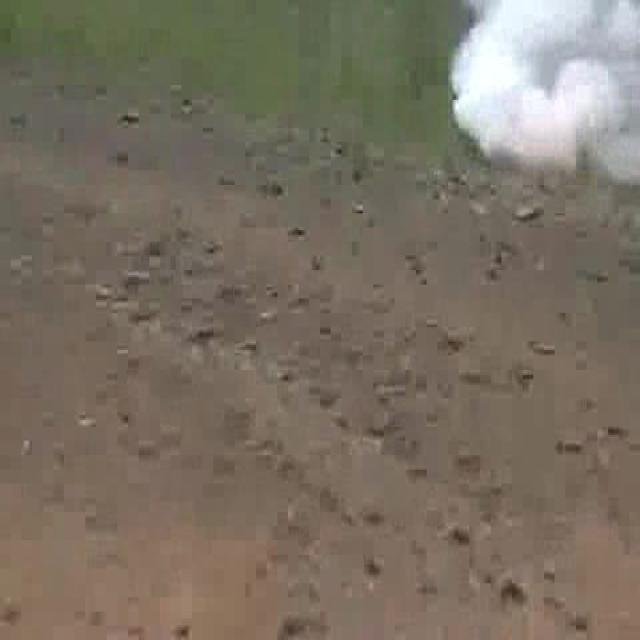Smoke: (456, 7, 636, 175)
